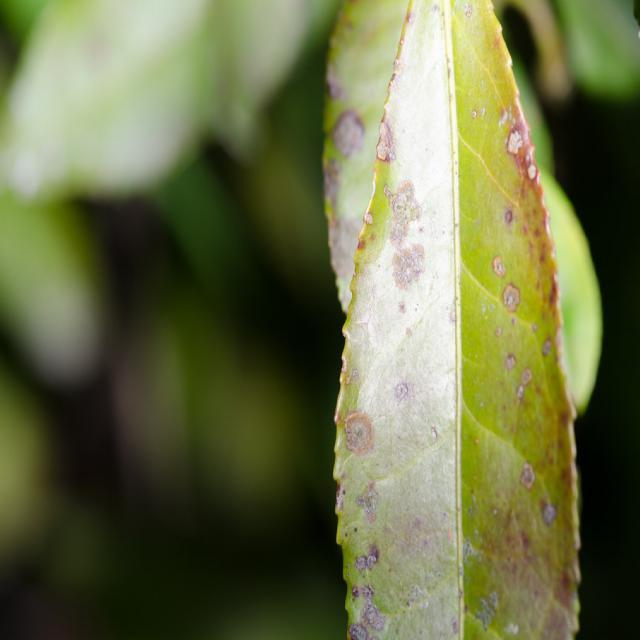Tea red rust: (325, 41, 586, 630)
